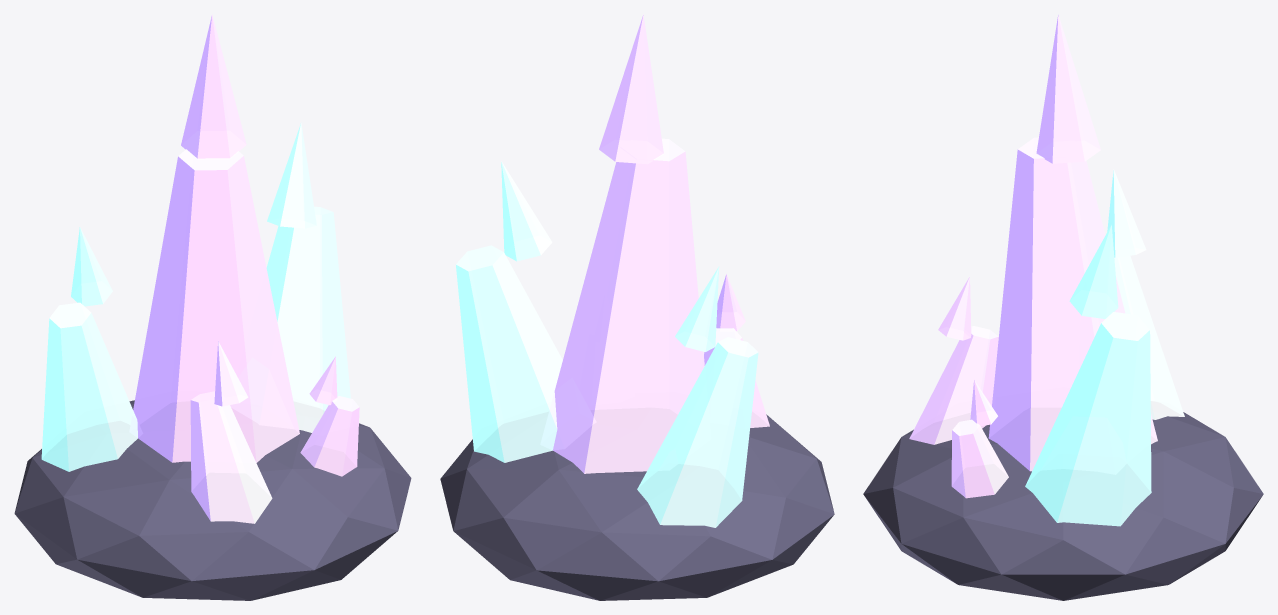
File: crystal.glb
3 views of the same model, side by side, from view 1: azimuth 30°, elevation 25°; view 2: azimuth 150°, elevation 25°; view 3: azimuth 270°, elevation 25° (orthographic).
Visible parts, largest first — view 1: BaseRock, ShardA, ShardB, ShardC, ShardD, ShardATip, ShardE, ShardBTip, ShardCTip, ShardDTip, ShardETip; view 2: BaseRock, ShardA, ShardB, ShardC, ShardATip, ShardBTip, ShardCTip, ShardDTip, ShardD; view 3: BaseRock, ShardA, ShardB, ShardD, ShardATip, ShardC, ShardE, ShardBTip, ShardCTip, ShardDTip, ShardETip.
Boxes of the visible parts, bbox=[...] form: BaseRock: bbox=[14, 400, 411, 600]; ShardA: bbox=[133, 149, 299, 462]; ShardB: bbox=[266, 206, 350, 432]; ShardC: bbox=[41, 302, 137, 471]; ShardD: bbox=[190, 391, 272, 523]; ShardATip: bbox=[181, 14, 246, 158]; ShardE: bbox=[300, 396, 359, 476]; ShardBTip: bbox=[267, 122, 316, 228]; ShardCTip: bbox=[71, 227, 112, 306]; ShardDTip: bbox=[214, 341, 248, 406]; ShardETip: bbox=[309, 356, 337, 405]; BaseRock: bbox=[440, 414, 834, 600]; ShardA: bbox=[553, 138, 704, 473]; ShardB: bbox=[456, 245, 562, 462]; ShardC: bbox=[637, 337, 758, 527]; ShardATip: bbox=[599, 14, 663, 164]; ShardBTip: bbox=[501, 161, 552, 261]; ShardCTip: bbox=[675, 266, 719, 351]; ShardDTip: bbox=[716, 274, 745, 331]; ShardD: bbox=[704, 328, 769, 427]; BaseRock: bbox=[863, 412, 1263, 600]; ShardA: bbox=[988, 137, 1157, 471]; ShardB: bbox=[1025, 312, 1151, 526]; ShardD: bbox=[909, 326, 998, 444]; ShardATip: bbox=[1036, 14, 1100, 163]; ShardC: bbox=[1114, 256, 1184, 419]; ShardE: bbox=[951, 419, 1008, 498]; ShardBTip: bbox=[1069, 225, 1118, 318]; ShardCTip: bbox=[1107, 169, 1146, 257]; ShardDTip: bbox=[938, 276, 971, 340]; ShardETip: bbox=[970, 380, 997, 426].
Size of the model in its own units: 1.36 by 2.14 by 1.43.
